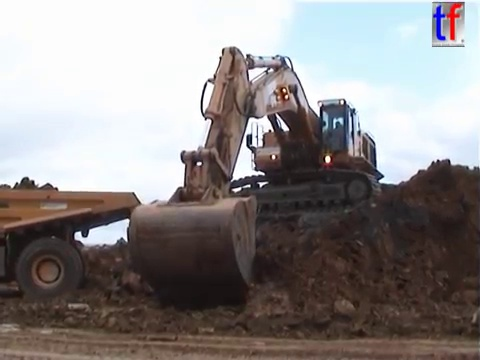excavator: (124, 43, 387, 311)
truck: (1, 184, 147, 307)
